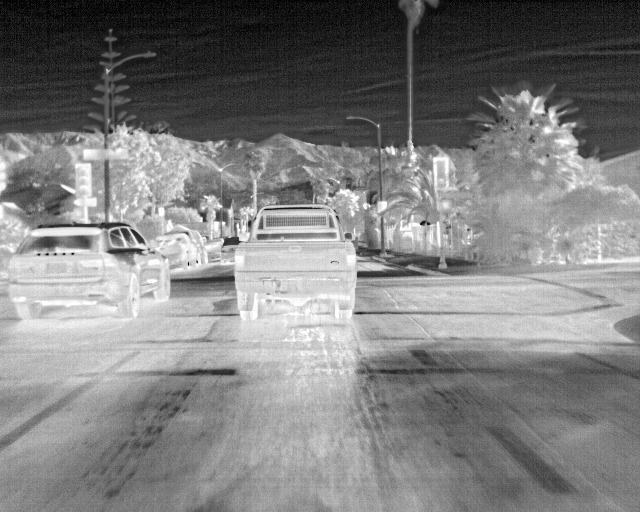car: (8, 220, 171, 322), (232, 203, 358, 323), (153, 234, 200, 269), (190, 229, 209, 262), (221, 237, 238, 263)
